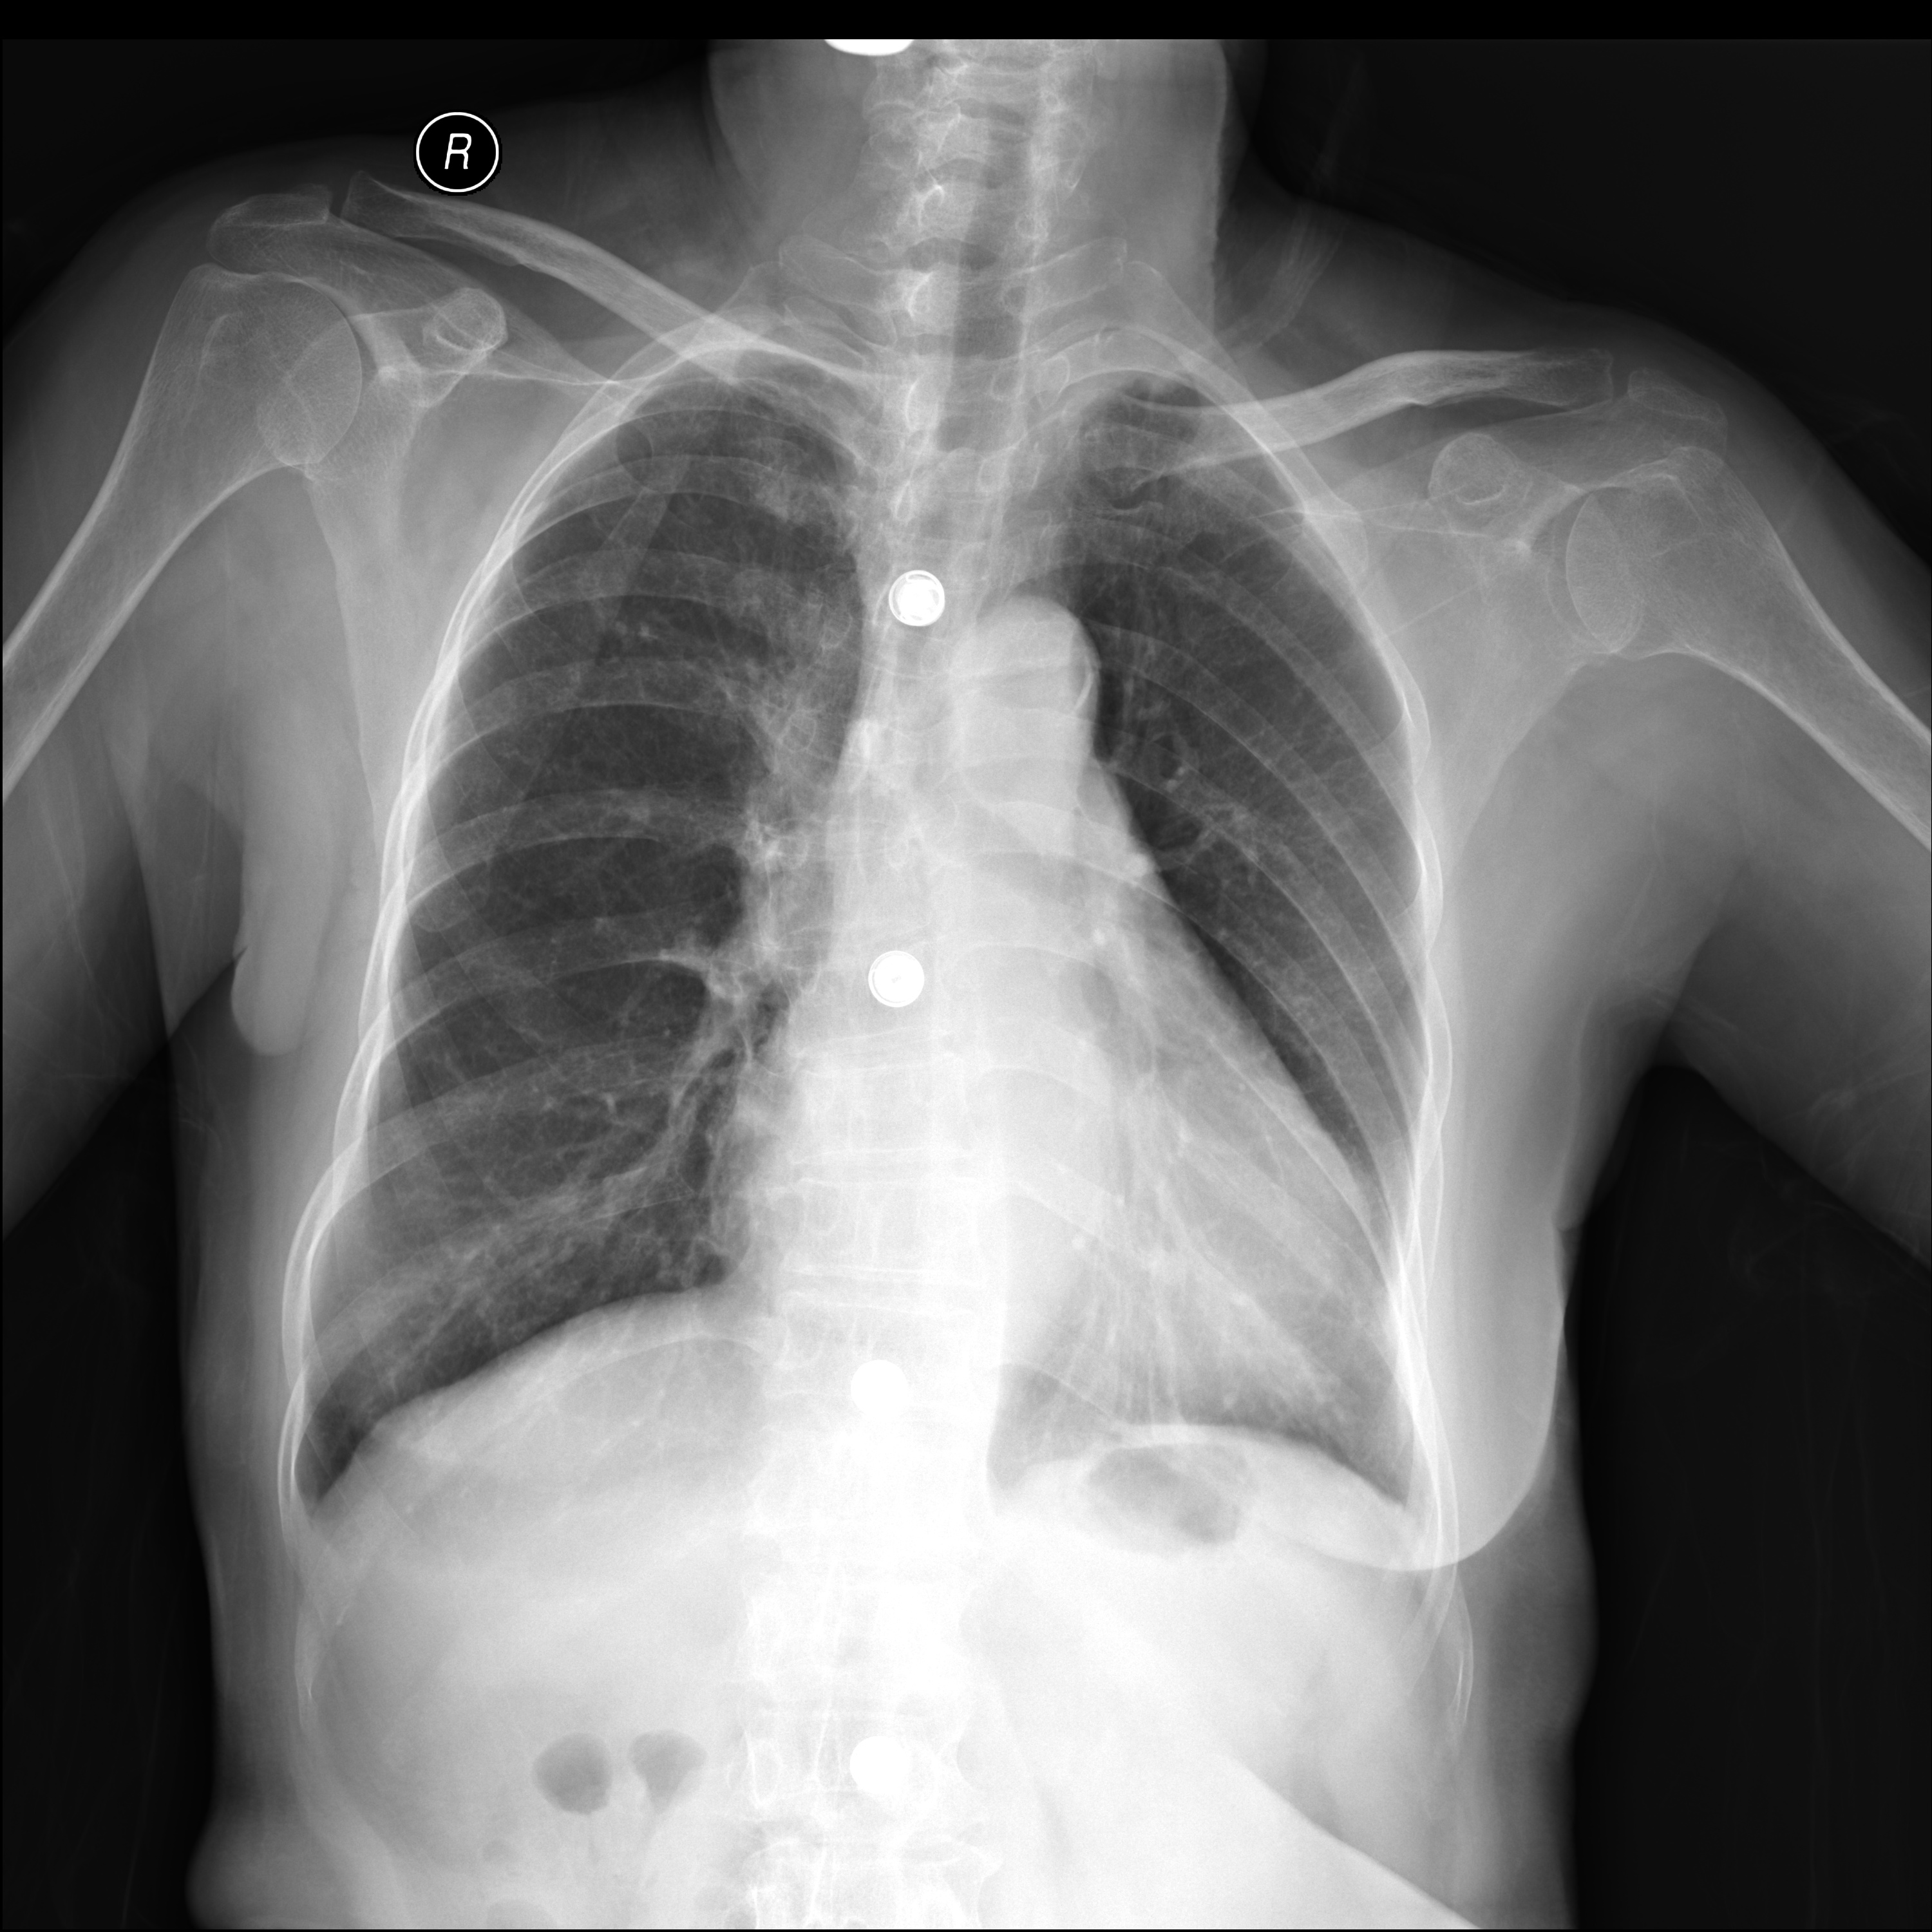nodule: (571, 593, 706, 688)
